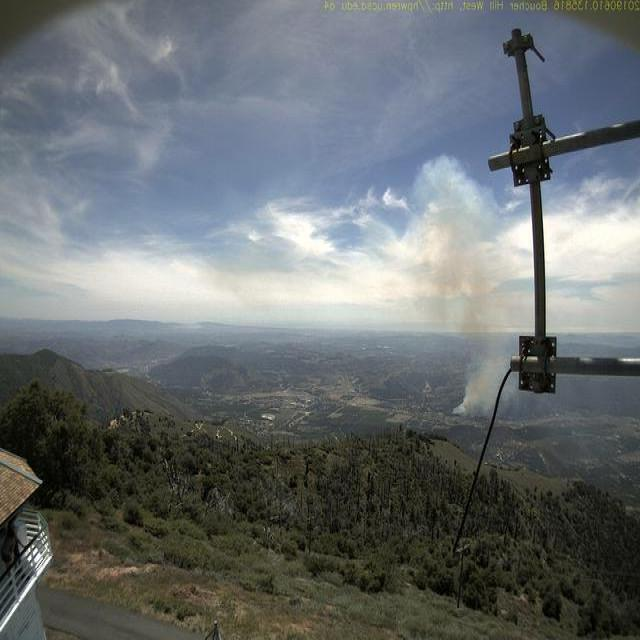Smoke: (440, 217, 523, 420)
